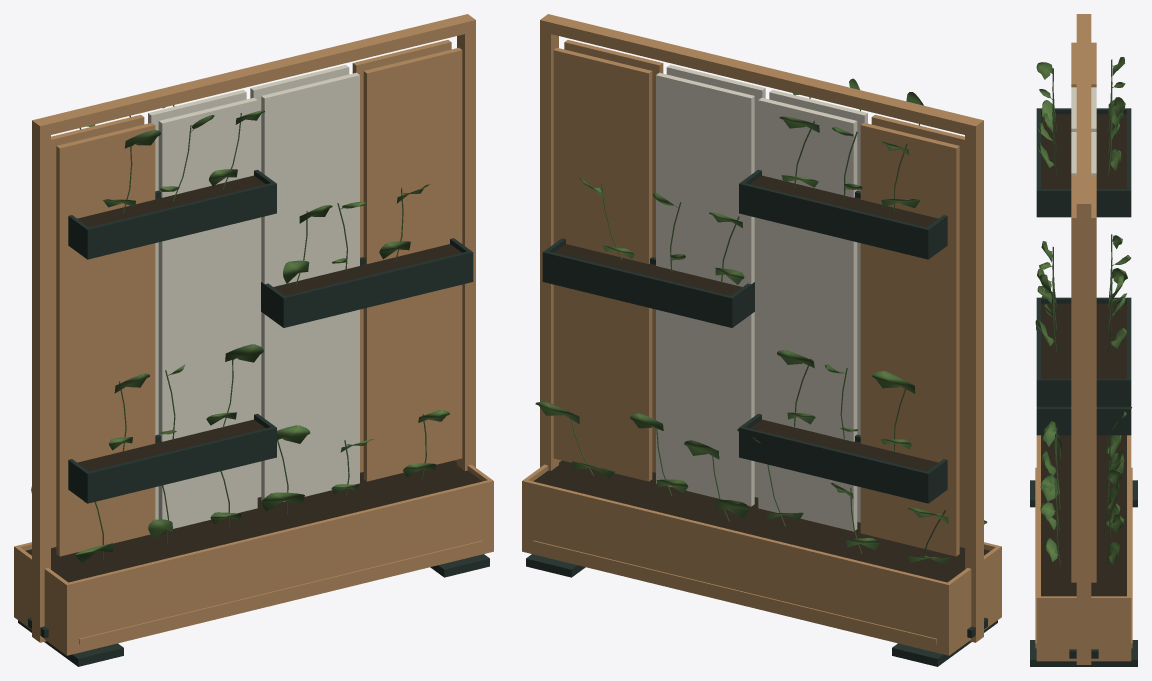
Rendered from botanicalDivider-6.glb.
3 views of the same model, side by side, from view 1: azimuth 30°, elevation 25°; view 2: azimuth 150°, elevation 25°; view 3: azimuth 270°, elevation 25° (orthographic). The views are drawn at different scales.
Visible parts, largest first — view 1: Botanical_frame_finish, Botanical_ceramic, Botanical_powdercoat, Botanical_recessed_soil, Botanical_living_foliage, Botanical_connected_stems; view 2: Botanical_frame_finish, Botanical_ceramic, Botanical_powdercoat, Botanical_recessed_soil, Botanical_living_foliage, Botanical_connected_stems; view 3: Botanical_frame_finish, Botanical_recessed_soil, Botanical_powdercoat, Botanical_living_foliage, Botanical_connected_stems, Botanical_ceramic.
Part boxes in pixels (<box>): Botanical_frame_finish: <box>14,14,493,655</box>; Botanical_ceramic: <box>148,65,359,528</box>; Botanical_powdercoat: <box>18,169,489,666</box>; Botanical_recessed_soil: <box>25,175,482,582</box>; Botanical_living_foliage: <box>31,107,449,562</box>; Botanical_connected_stems: <box>79,105,426,559</box>; Botanical_frame_finish: <box>522,14,1001,655</box>; Botanical_ceramic: <box>656,65,867,531</box>; Botanical_powdercoat: <box>526,169,997,666</box>; Botanical_recessed_soil: <box>533,175,990,582</box>; Botanical_living_foliage: <box>535,78,987,564</box>; Botanical_connected_stems: <box>568,97,945,563</box>; Botanical_frame_finish: <box>1035,14,1132,664</box>; Botanical_recessed_soil: <box>1041,114,1126,596</box>; Botanical_powdercoat: <box>1030,108,1137,666</box>; Botanical_living_foliage: <box>1035,57,1131,566</box>; Botanical_connected_stems: <box>1050,59,1113,566</box>; Botanical_ceramic: <box>1071,87,1096,176</box>.
Bounding box in the file's own units: 2 × 2.3 × 0.48.
